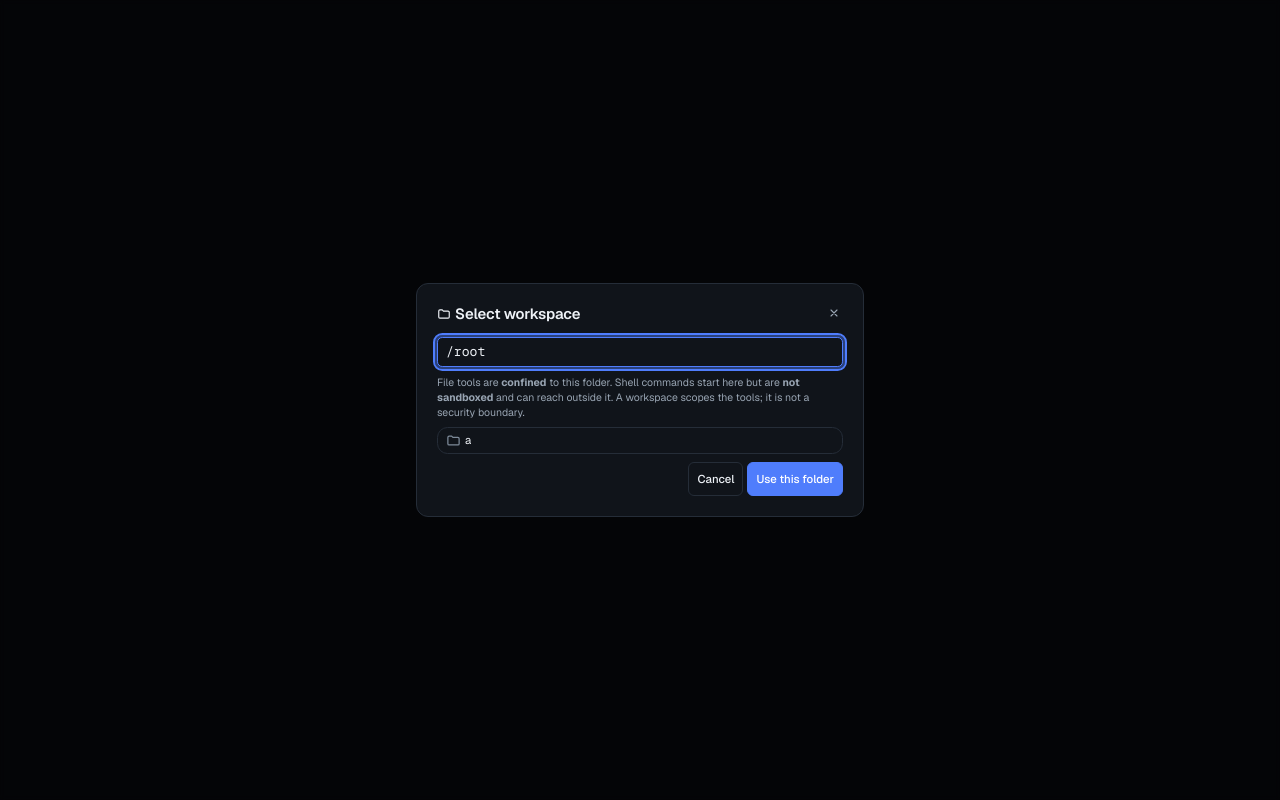
Test: WorkspacePickerModal › renders directories, navigates, and disables use for non-selectable paths
The width and height of the screenshot is (1280, 800).
Expected: the text "a" is shown, [465,432,471,449]
Click the button "a" at (454, 441), box [438,428,842,453]
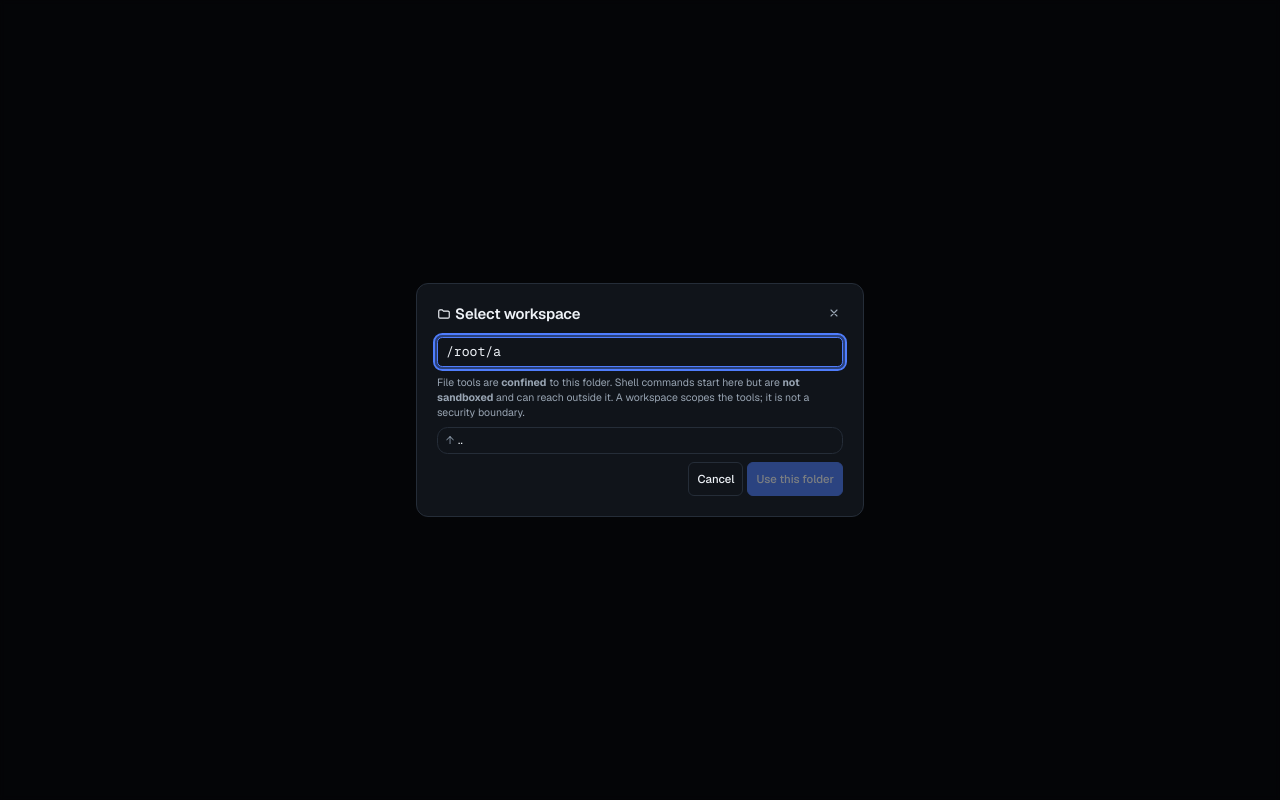
Now the text ".." is shown, box [458,432,463,449]
Now the button "Use this folder" is disabled, box [748,462,843,496]
